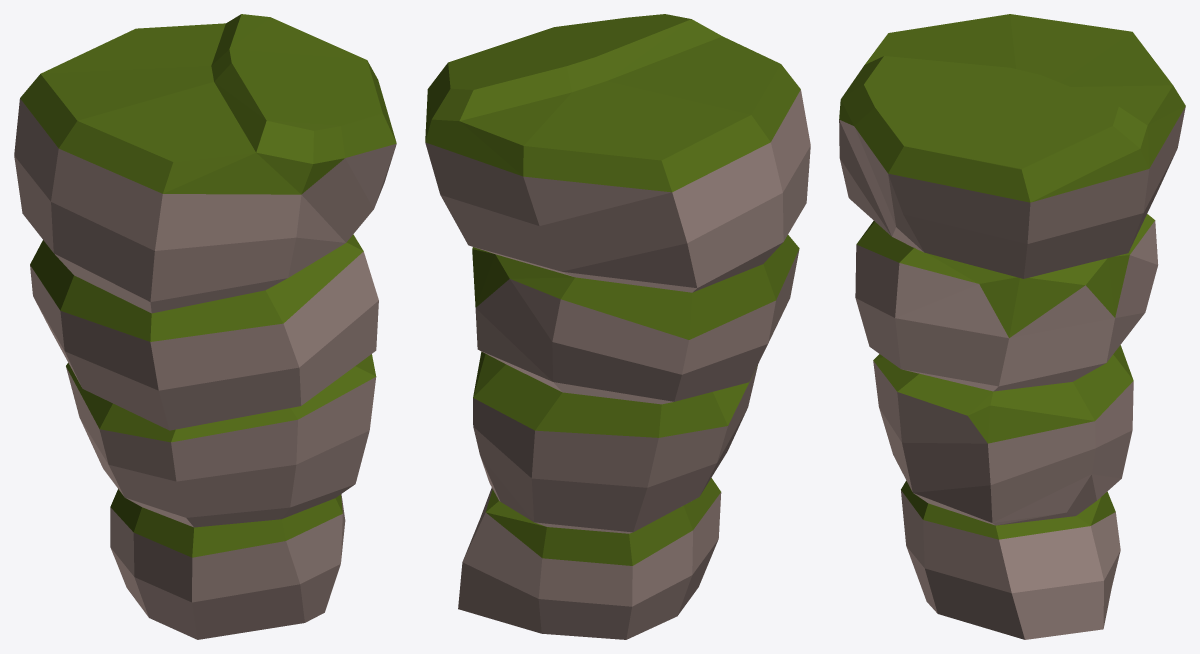
The model's file is Rock_5.fbx.
3 renders of one model, left to right at view 1: azimuth 30°, elevation 25°; view 2: azimuth 150°, elevation 25°; view 3: azimuth 270°, elevation 25°, orthographic. The views are drawn at different scales.
Visible parts, largest first — view 1: Rock_5; view 2: Rock_5; view 3: Rock_5.
Part boxes in pixels (box(x1,y1,x2,y2)): Rock_5: box(14, 14, 396, 639); Rock_5: box(425, 14, 810, 639); Rock_5: box(839, 14, 1185, 639).
Bounding box in the file's own units: 3.63 × 5.46 × 3.3.
